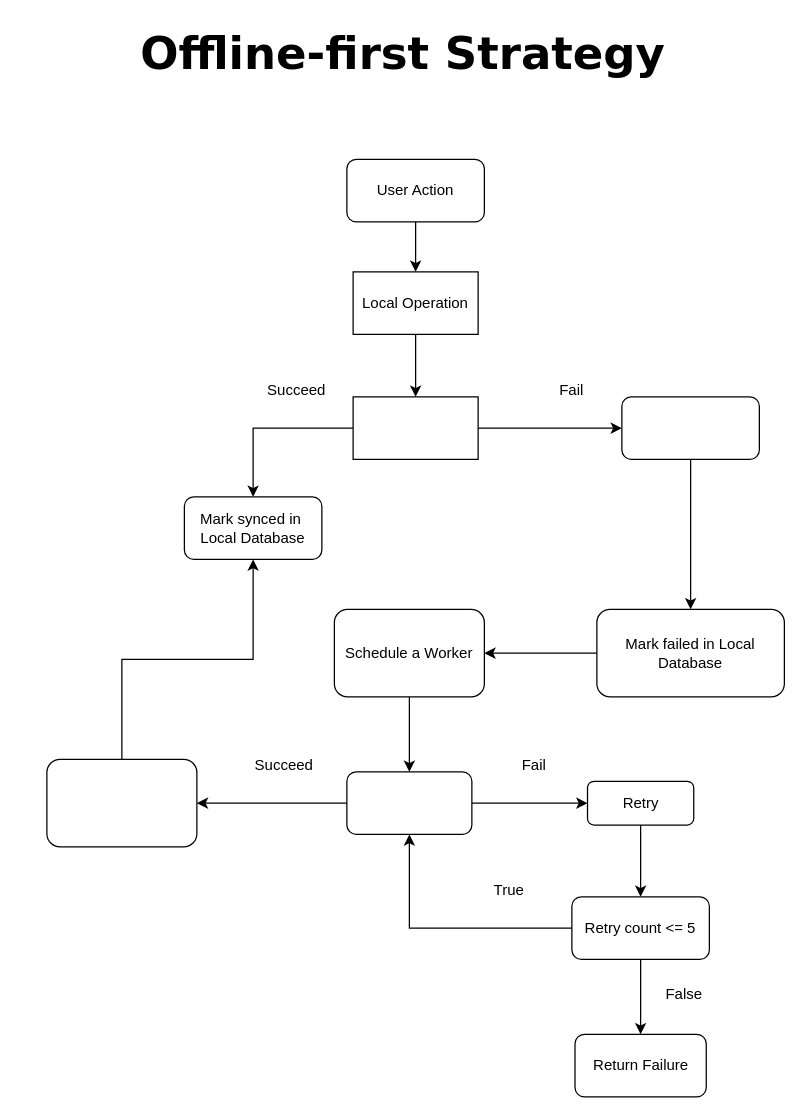
Image size: 806x1119. Some labels were removed from this diagram. Here are the shapes that lost their labels. From the top down, the centre of each, then its label:
At pixel 415 427: "Network Operation".
At pixel 690 427: "Tracking in Local".
At pixel 121 802: "Return Success".
At pixel 409 802: "Execute".
